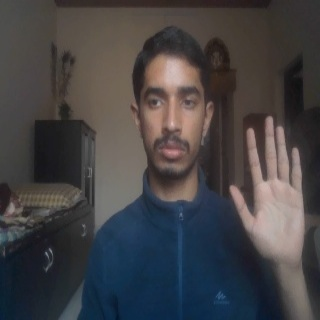Face: (129, 25, 215, 182)
Hello: (227, 115, 306, 267)
